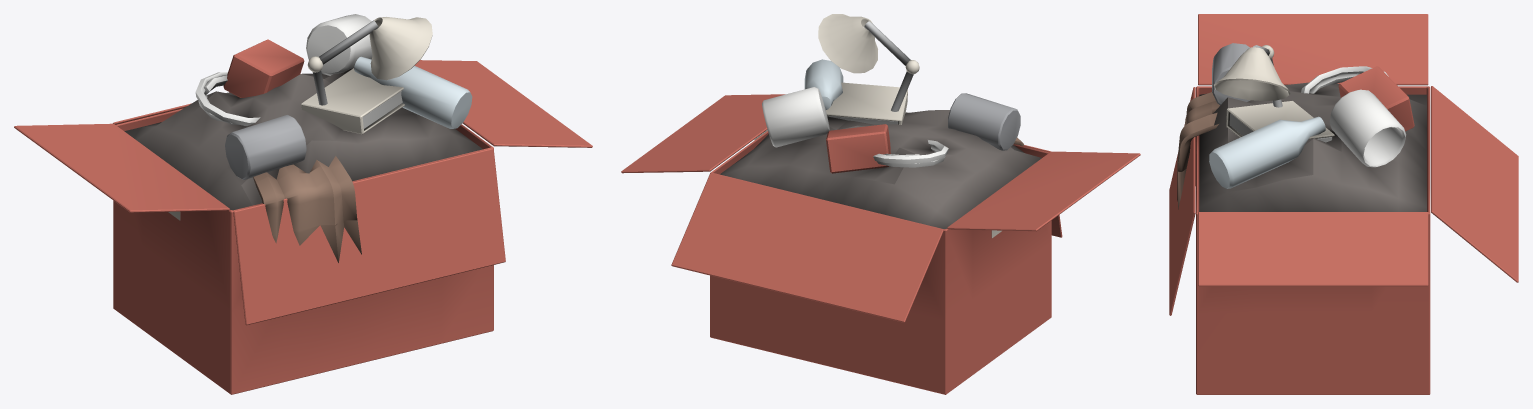
File: crate_junk.glb
3 renders of one model, left to right at view 1: azimuth 30°, elevation 25°; view 2: azimuth 150°, elevation 25°; view 3: azimuth 270°, elevation 25°, orthographic. The views are drawn at different scales.
Parts seen in each view (by area): view 1: PART; view 2: PART; view 3: PART.
Boxes of the visible parts, x1=… form: PART: x1=14, y1=14, x2=592, y2=394; PART: x1=621, y1=14, x2=1140, y2=394; PART: x1=1169, y1=14, x2=1518, y2=394.
Size of the model in its own units: 0.7913 by 0.5077 by 0.5216.
